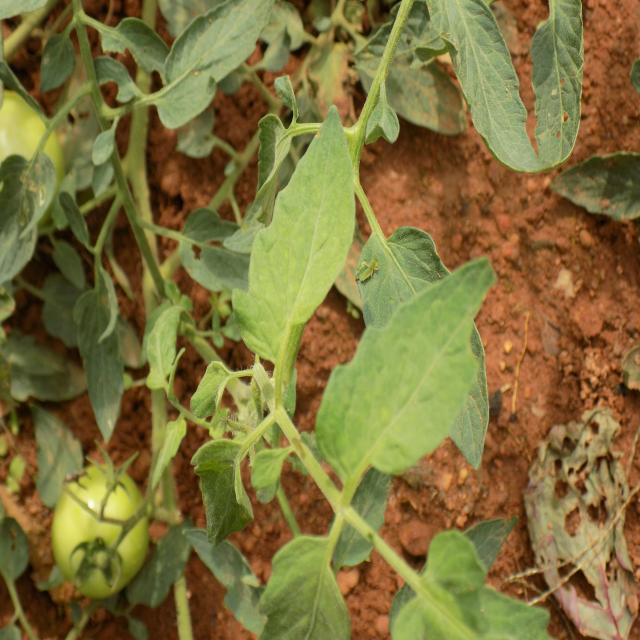tomato_healthy: (323, 258, 492, 476), (248, 108, 358, 361), (427, 2, 585, 174)
